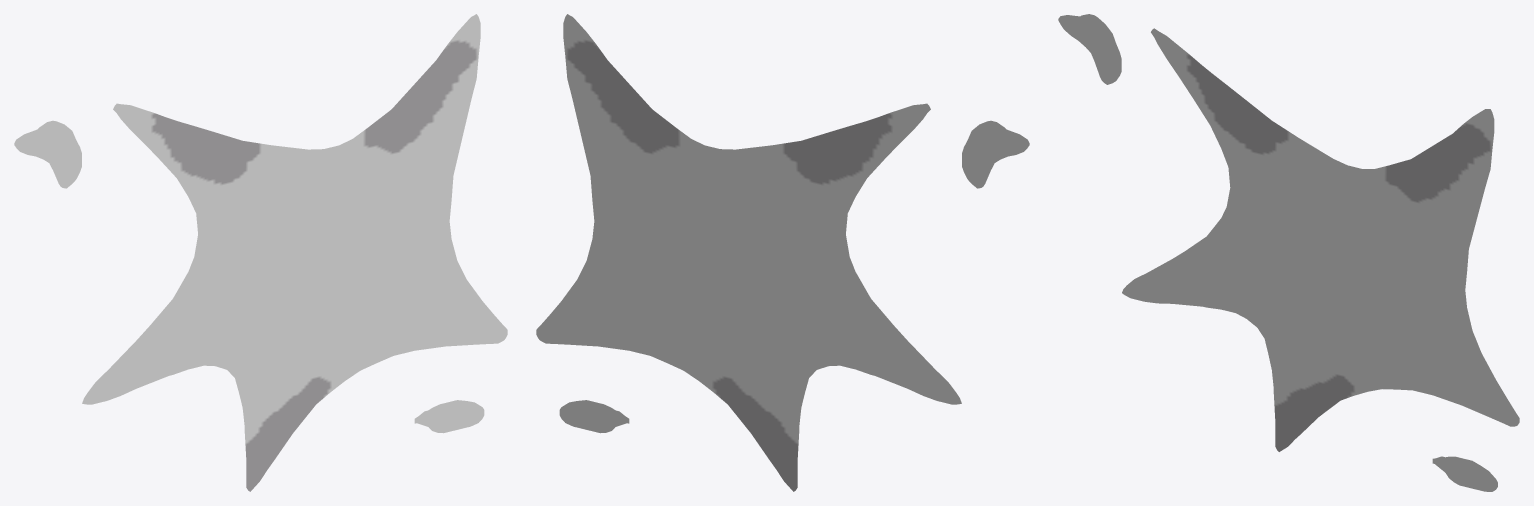
The model's file is Sid.glb.
The picture shows the model from 3 angles, left to right: view 1: azimuth 30°, elevation 25°; view 2: azimuth 150°, elevation 25°; view 3: azimuth 330°, elevation 25°; orthographic projection. The views are drawn at different scales.
Parts seen in each view (by area): view 1: Sid; view 2: Sid; view 3: Sid.
Part boxes in pixels (box(x1,y1,x2,y2)): Sid: box(14, 14, 507, 491); Sid: box(536, 14, 1029, 491); Sid: box(1058, 14, 1519, 491).
Bounding box in the file's own units: 169 × 138 × 8.58e-06.
1 material, 1 textured.
